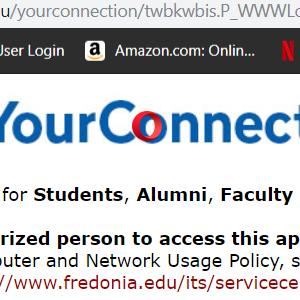opera: (132, 109, 163, 142)
